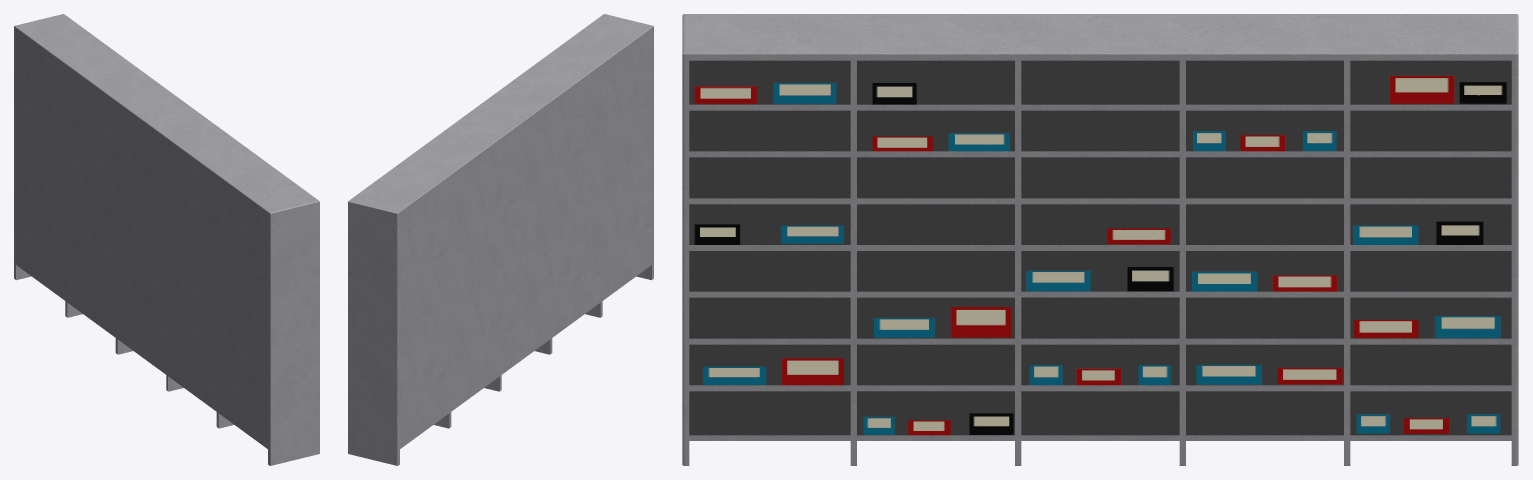
The model's file is Elec_storage shelf long.fbx.
3 views of the same model, side by side, from view 1: azimuth 30°, elevation 25°; view 2: azimuth 150°, elevation 25°; view 3: azimuth 270°, elevation 25° (orthographic). The views are drawn at different scales.
Parts seen in each view (by area): view 1: storage shelf long; view 2: storage shelf long; view 3: storage shelf long.
Part boxes in pixels (x1=…): storage shelf long: x1=14, y1=14, x2=319, y2=465; storage shelf long: x1=348, y1=14, x2=653, y2=465; storage shelf long: x1=682, y1=14, x2=1518, y2=465.
Size of the model in its own units: 42.4 by 205 by 376.
2 materials, 2 textured.
